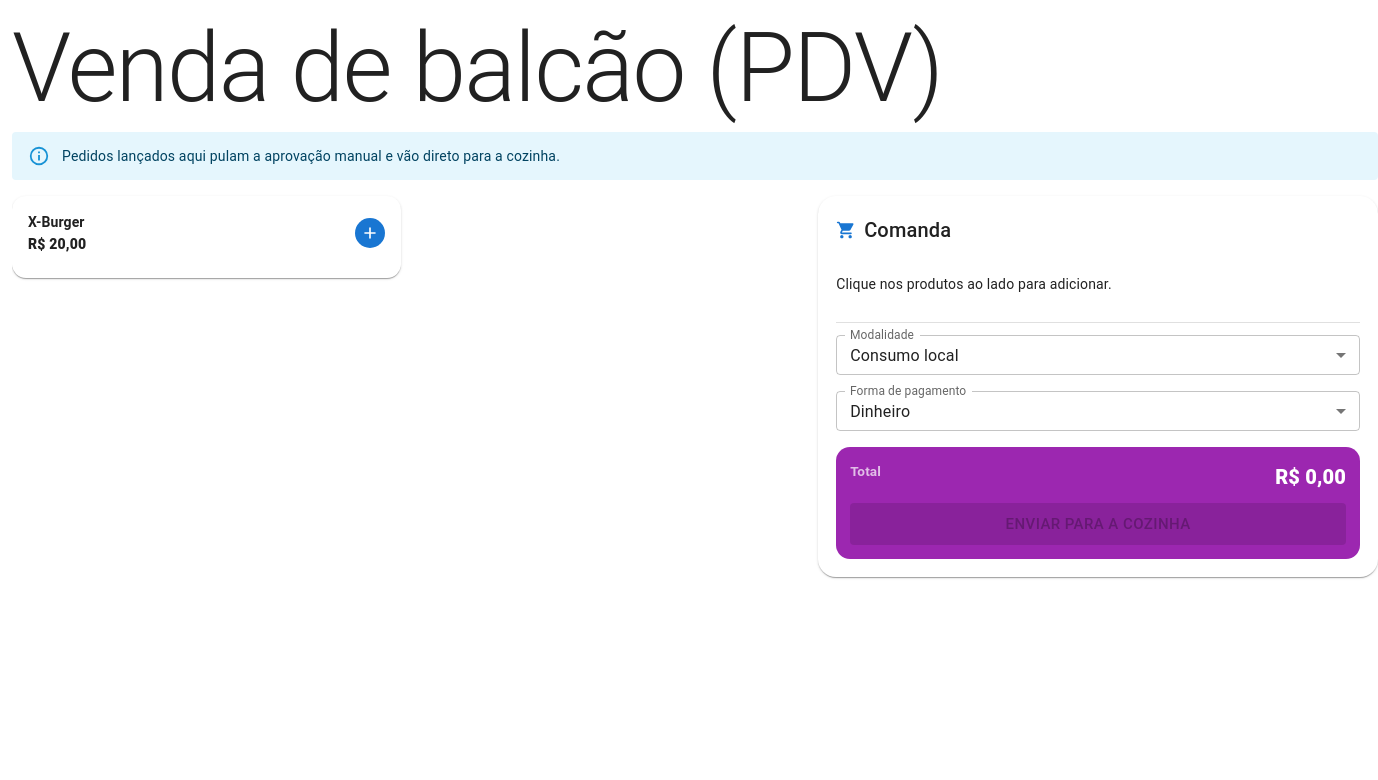
Test: PdvPage › mostra erro quando o registro da venda falha
The width and height of the screenshot is (1378, 780).
What coordinates should you click on to do the following:
click the heading "X-Burger"
I would click on:
 (57, 223)
Its box is [28,212,86,234].
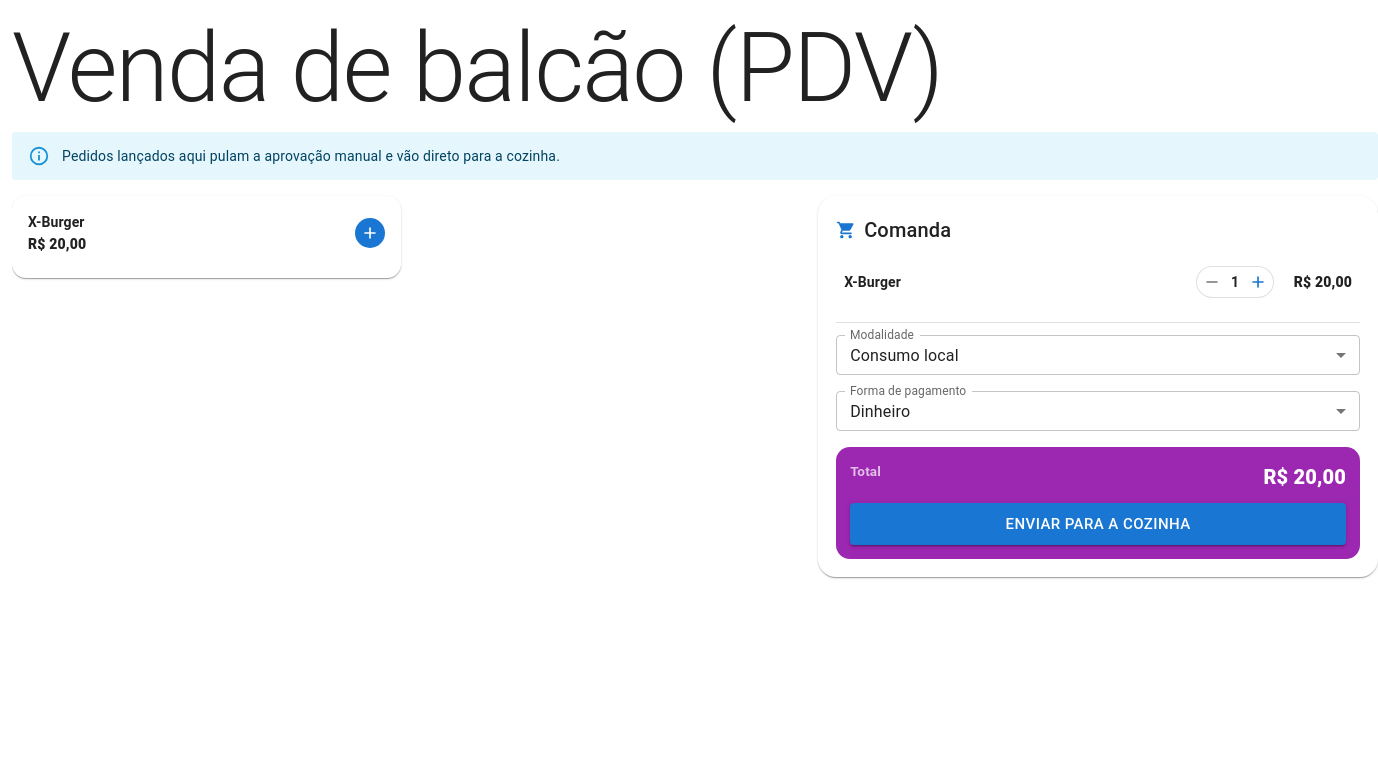
What coordinates should you click on to do the following:
click the button "Enviar para a cozinha"
I would click on:
 (1098, 524)
Its box is [850,503,1346,545].
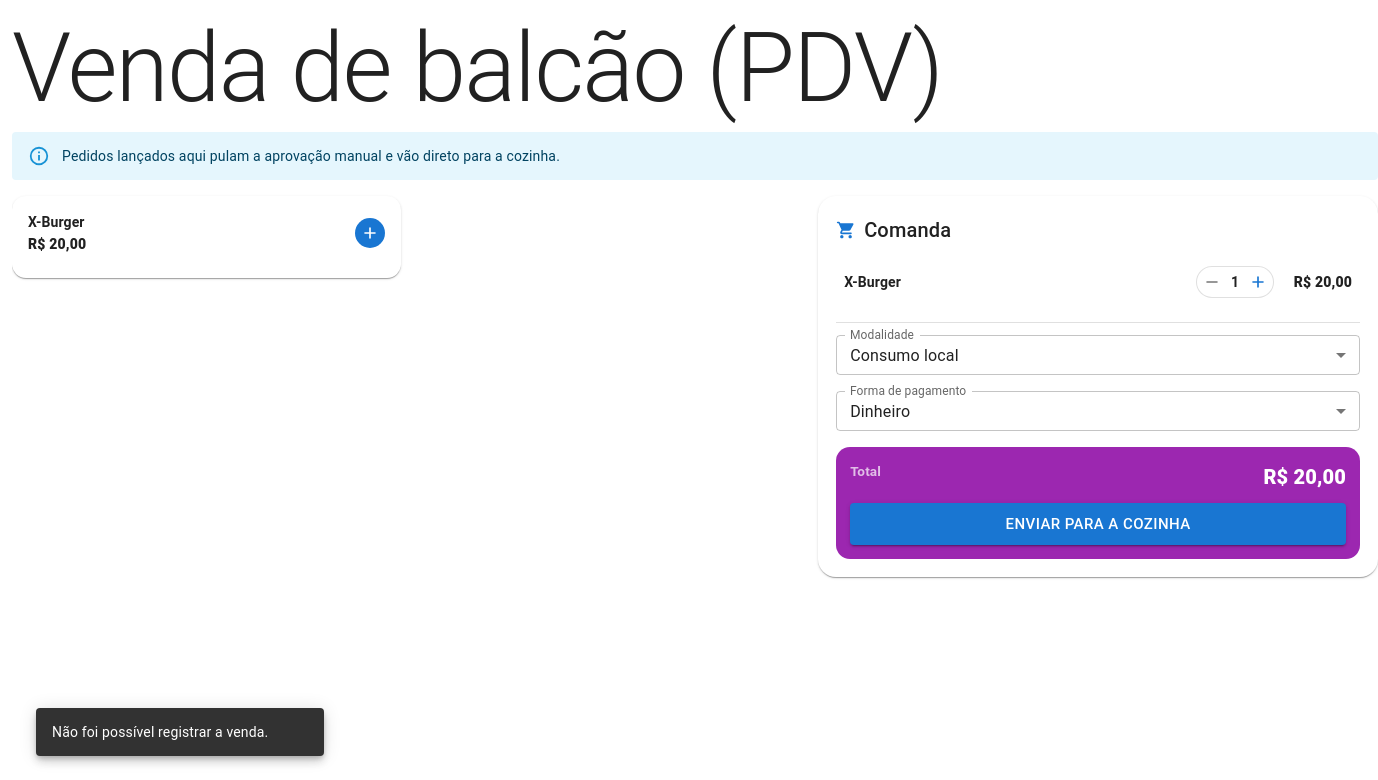
Check: the text "Não foi possível registrar a venda." is shown, box [52,724,268,740]
